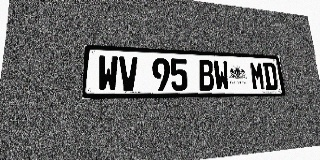5: (170, 58, 188, 91)
9: (152, 58, 171, 91)
B: (198, 59, 215, 91)
D: (262, 62, 278, 90)
M: (249, 62, 266, 90)
V: (119, 56, 138, 91)
W: (97, 55, 118, 91), (213, 60, 230, 91)
